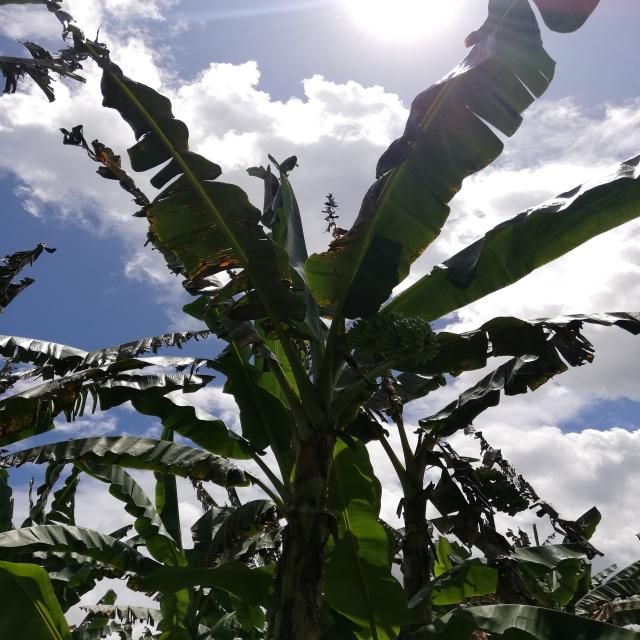Banana-plant: (264, 353, 355, 640)
